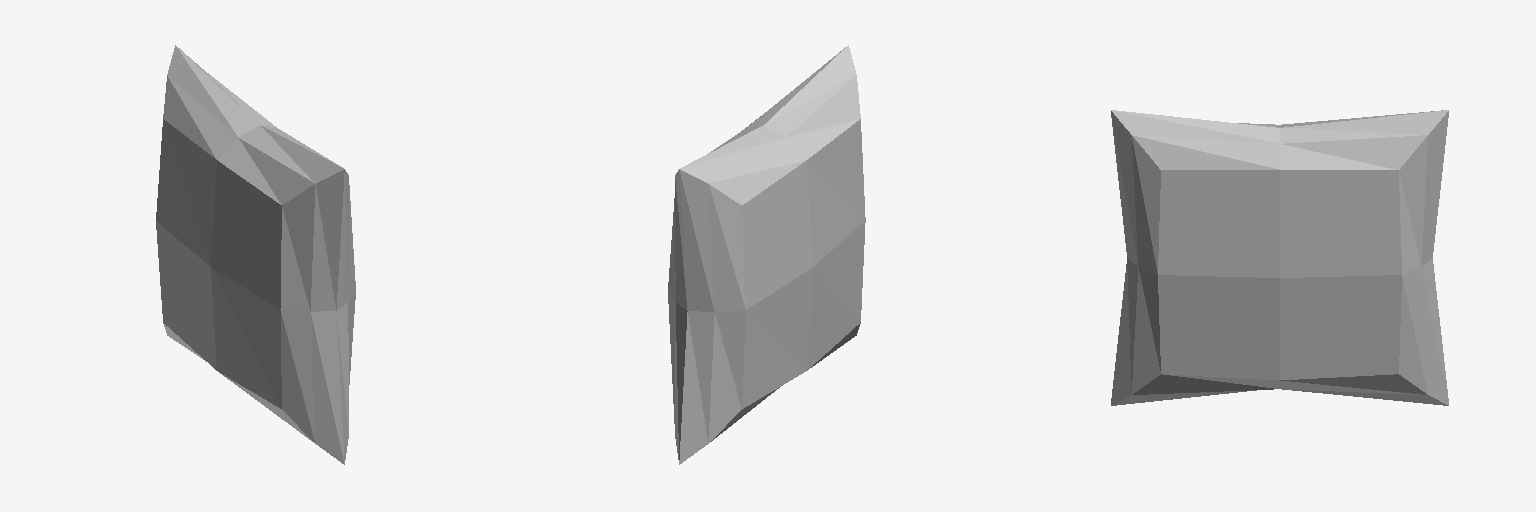
Rendered from cussion.obj.
3 renders of one model, left to right at view 1: azimuth 30°, elevation 25°; view 2: azimuth 150°, elevation 25°; view 3: azimuth 270°, elevation 25°, orthographic.
Parts seen in each view (by area): view 1: Cube; view 2: Cube; view 3: Cube.
Part boxes in pixels (x1,y1,x2,y2): Cube: (156,45,355,464); Cube: (668,45,865,464); Cube: (1111,110,1448,405).
Bounding box in the file's own units: 1.26 × 3.93 × 4.08.